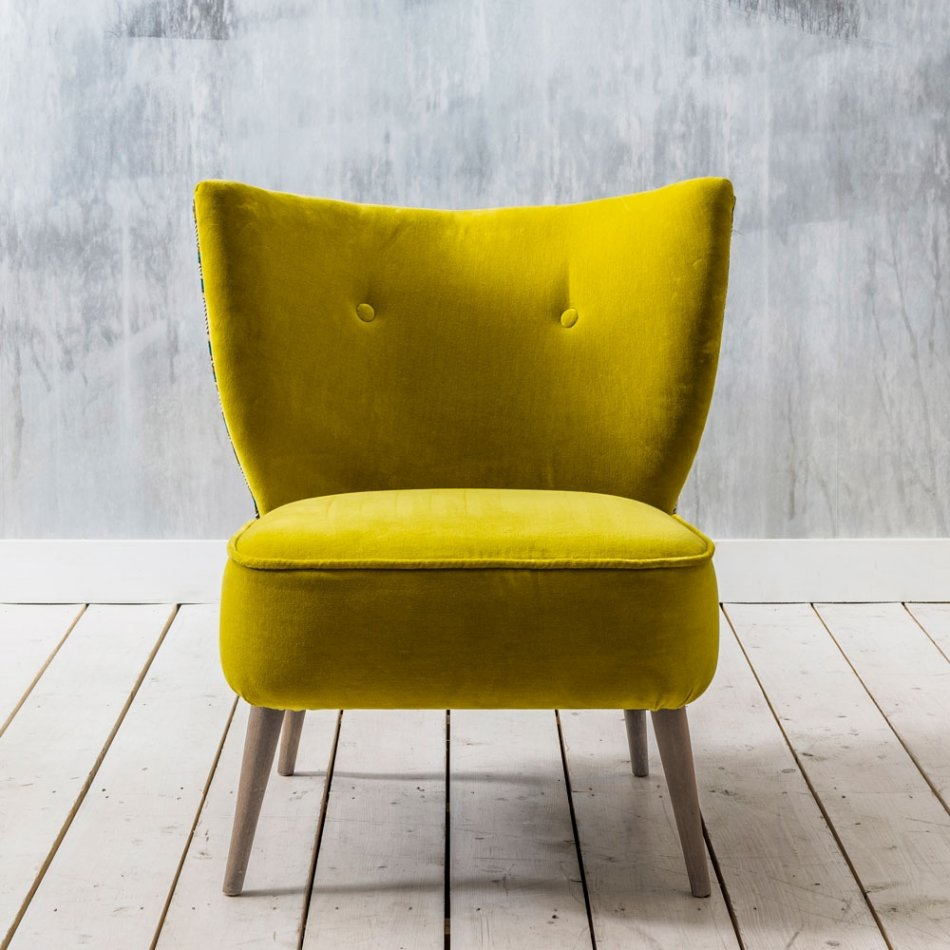chairs: (178, 171, 757, 903)
